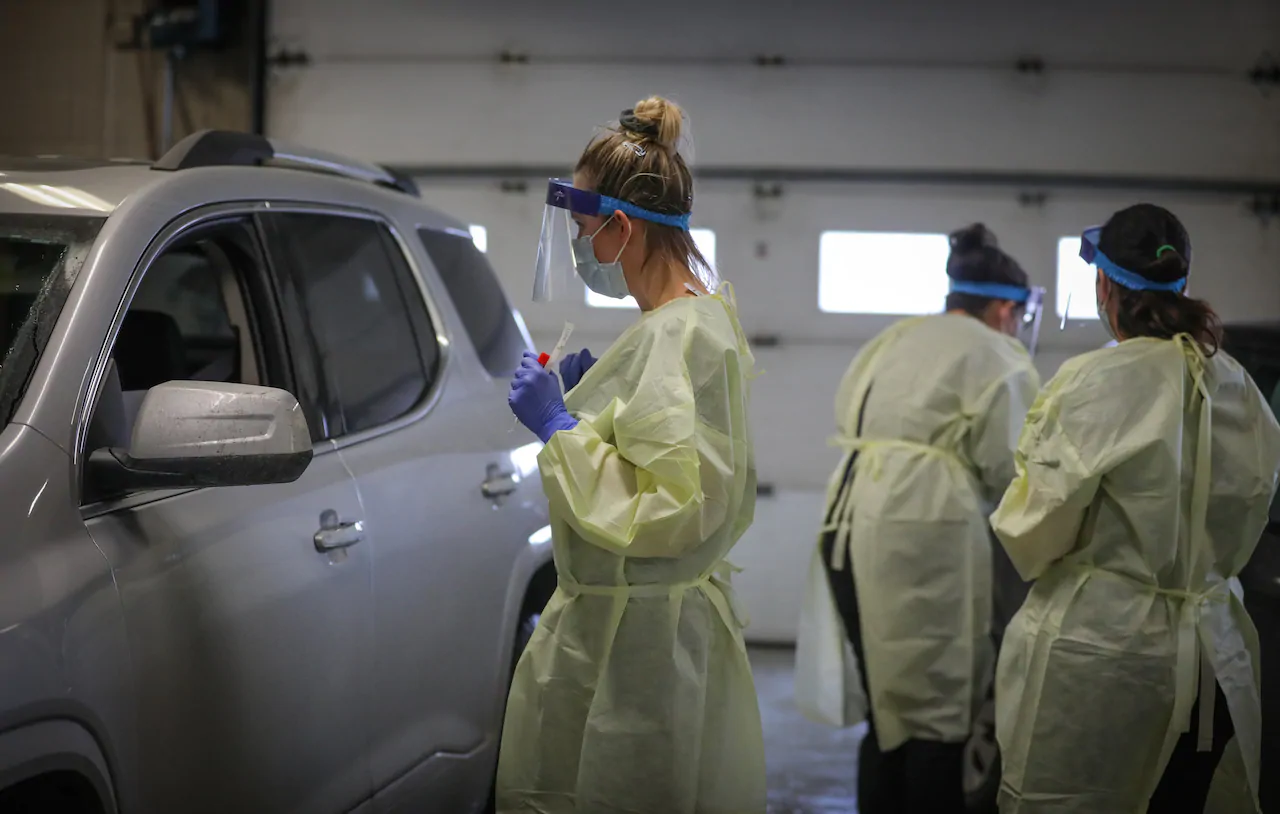Coverall: (1025, 341, 1256, 805), (561, 293, 748, 808), (836, 318, 1008, 736)
Gloves: (503, 353, 570, 446)
with_mask: (569, 216, 636, 301)
